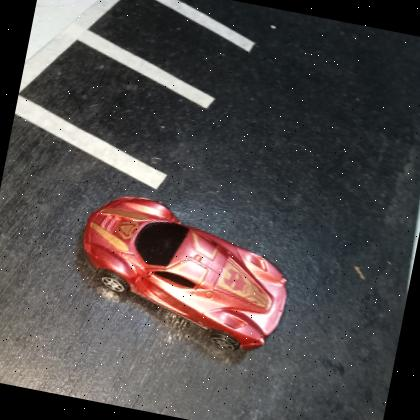Car: (81, 197, 288, 352)
